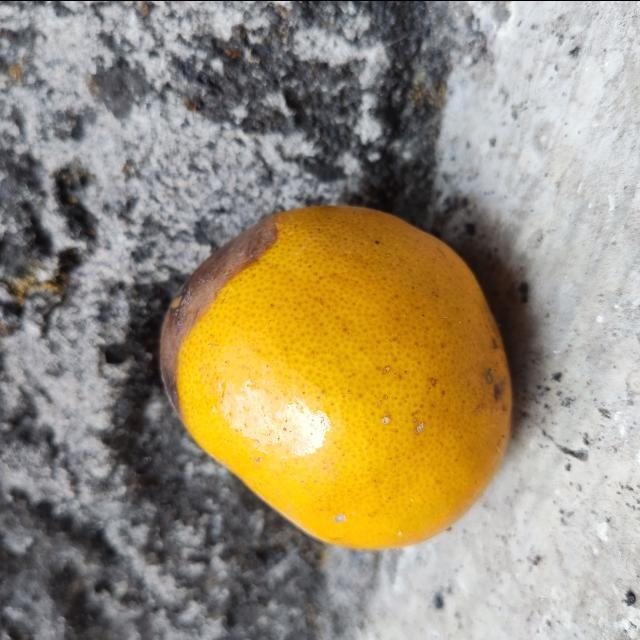agrume: (156, 202, 514, 555)
